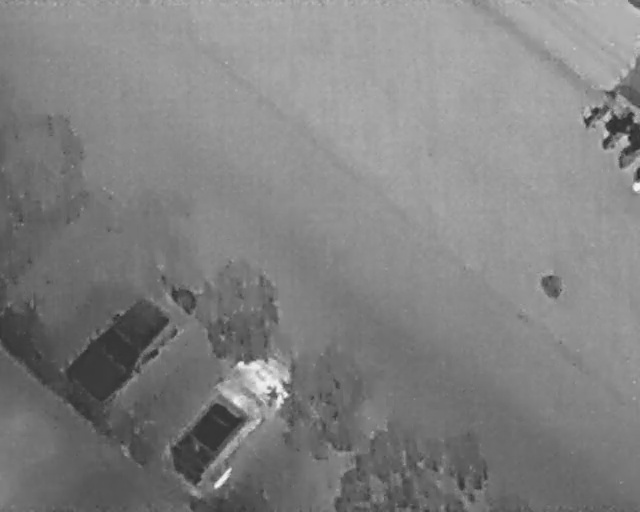Bicycle: (588, 101, 639, 154), (574, 83, 624, 135), (617, 121, 639, 170), (630, 165, 639, 195)
Car: (150, 335, 309, 505), (53, 259, 208, 418)
